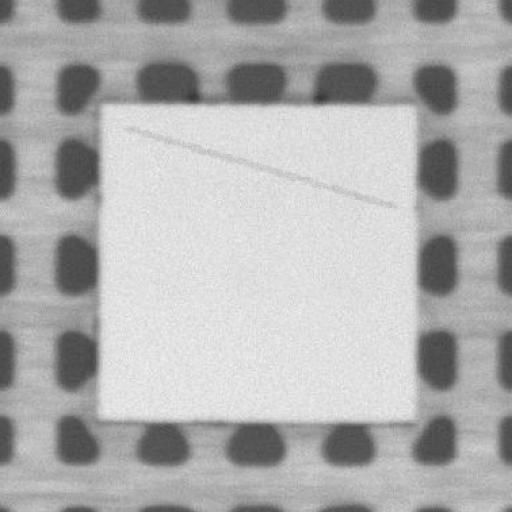DIE_CRACK: (126, 127, 392, 206)
